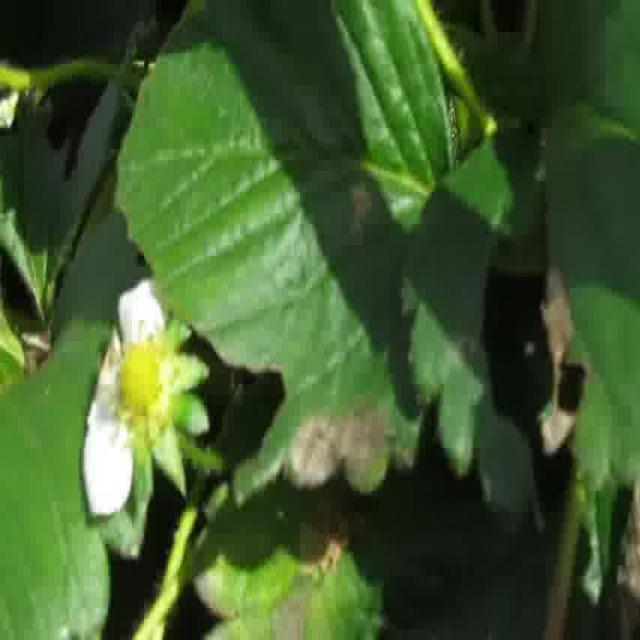Moho gris: (616, 462, 640, 636)
